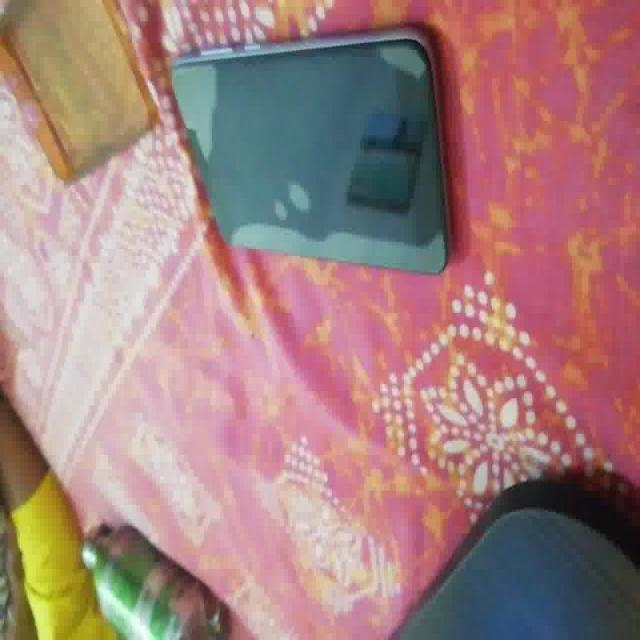phone: (169, 24, 451, 276)
